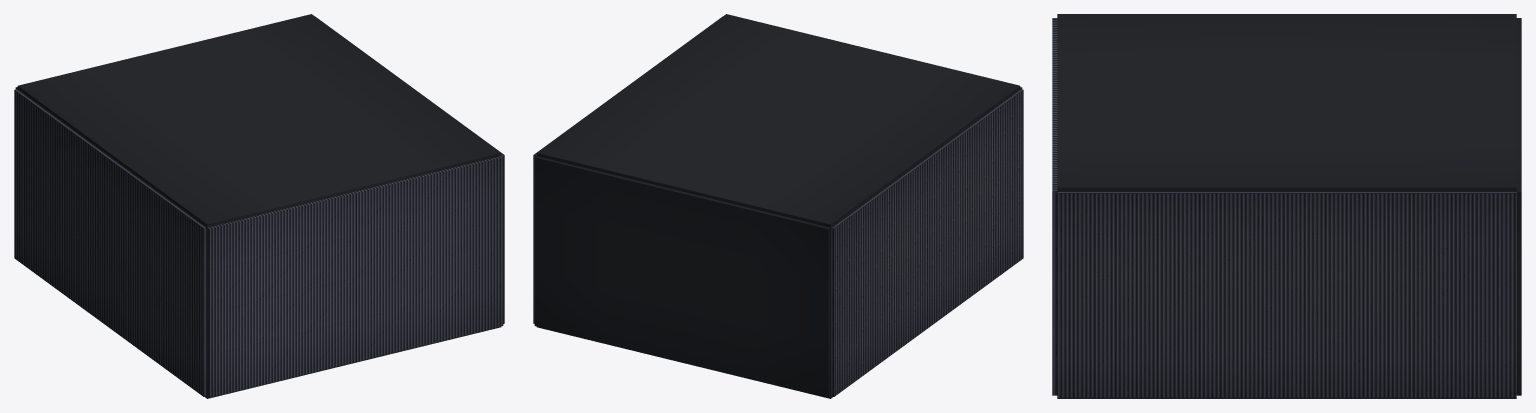
3 renders of one model, left to right at view 1: azimuth 30°, elevation 25°; view 2: azimuth 150°, elevation 25°; view 3: azimuth 270°, elevation 25°, orthographic. The views are drawn at different scales.
Visible parts, largest first — view 1: EnvironmentRoot; view 2: EnvironmentRoot; view 3: EnvironmentRoot.
Part boxes in pixels (bbox=[...]): EnvironmentRoot: bbox=[14, 14, 504, 398]; EnvironmentRoot: bbox=[533, 14, 1023, 398]; EnvironmentRoot: bbox=[1052, 14, 1521, 398].
Size of the model in its own units: 13.92 by 7.71 by 15.52.
Materials: 12 (6 with a texture image).
